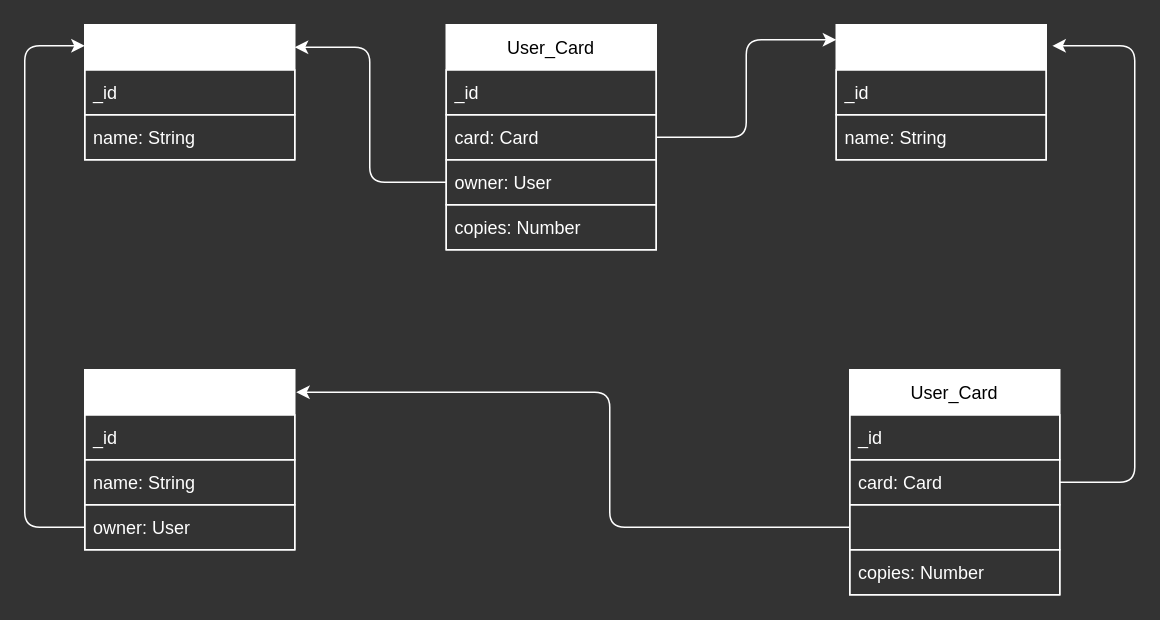
This 1160x620 diagram has some shape labels left out. The shapes that lost their labels are listed below. From the top down, each one's box as (x1, y1, x2, y2) in pixels, then its label:
(83, 23, 295, 160): User
(835, 23, 1046, 160): Card
(83, 368, 295, 550): Deck
(848, 503, 1060, 550): deck: Deck
